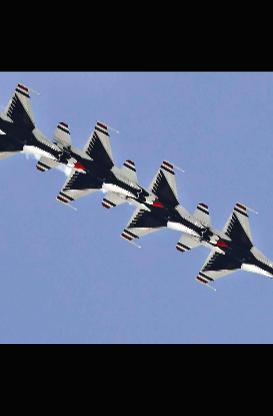F14: (35, 119, 167, 209), (100, 160, 230, 250), (173, 201, 271, 290), (0, 81, 88, 171)
